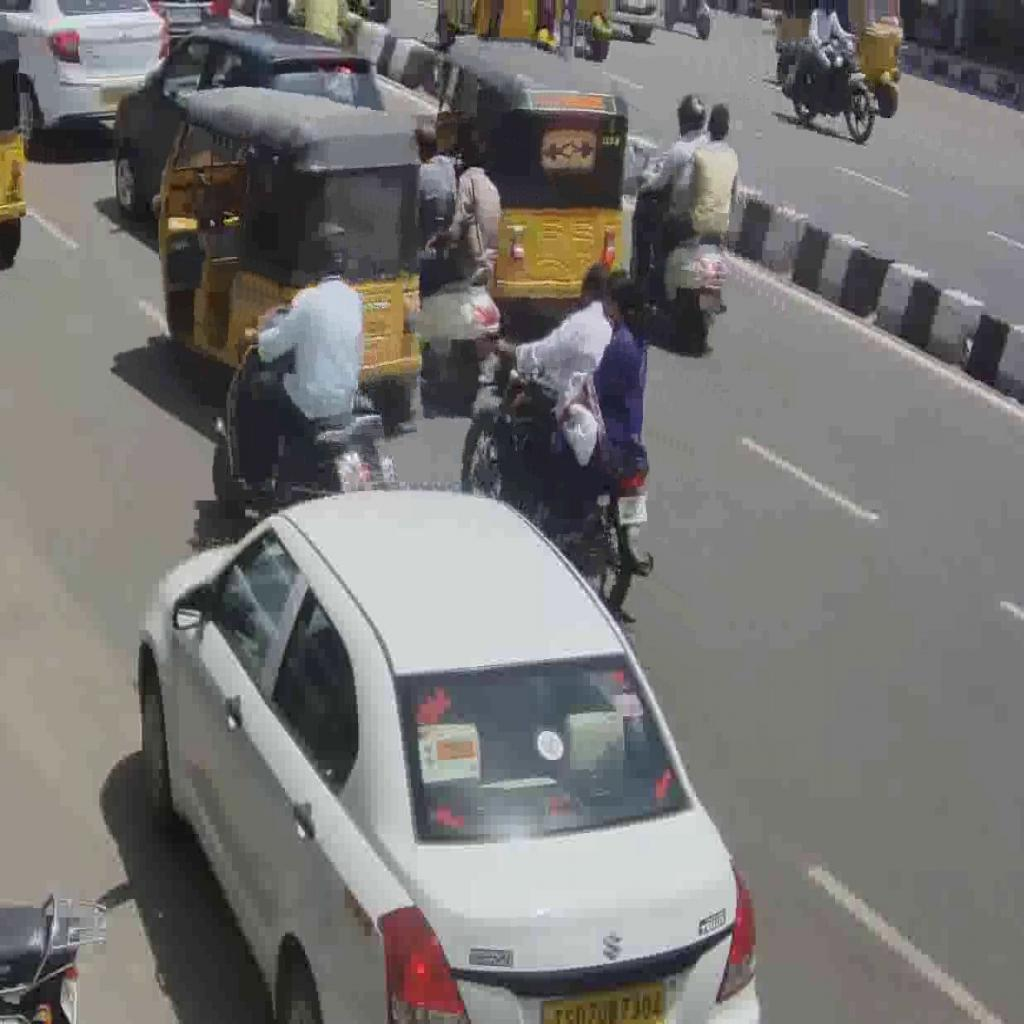helmet: (460, 339, 656, 621), (210, 300, 396, 518), (630, 154, 729, 354), (420, 264, 500, 408)
